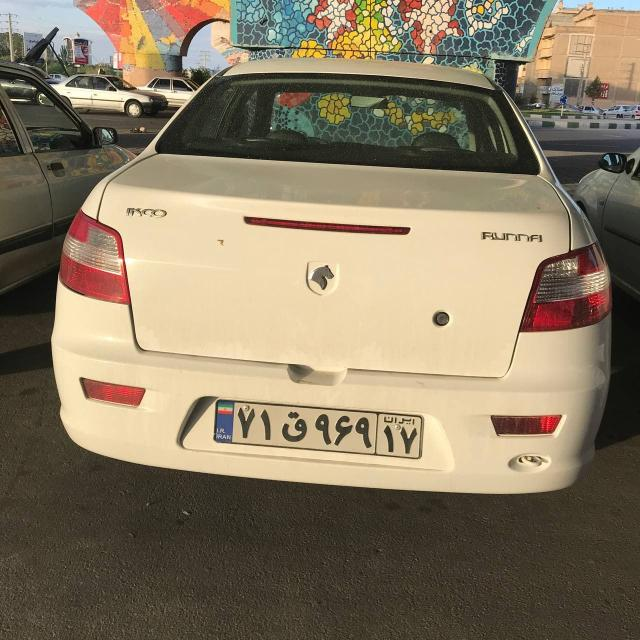Plates: (213, 399, 422, 458)
